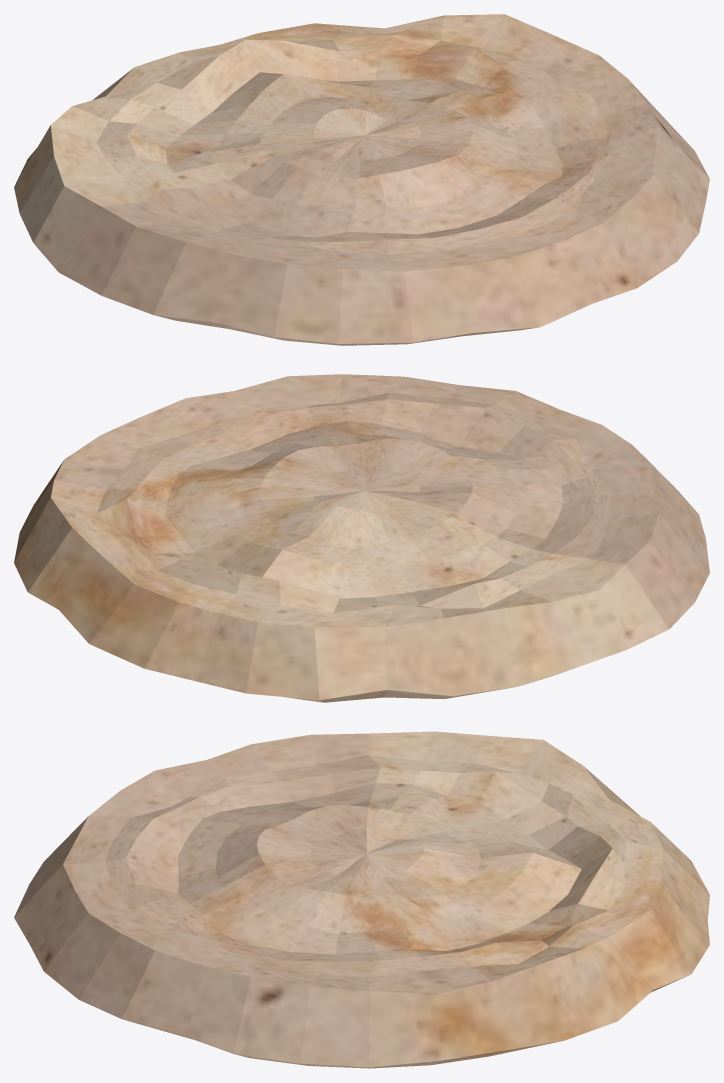
The model's file is deegbal_fase_2.glb.
The picture shows the model from 3 angles, top to bottom: view 1: azimuth 30°, elevation 25°; view 2: azimuth 150°, elevation 25°; view 3: azimuth 270°, elevation 25°; orthographic projection.
Visible parts, largest first — view 1: Sphere; view 2: Sphere; view 3: Sphere.
Part boxes in pixels (x1,y1,x2,y2): Sphere: (14,14,709,345); Sphere: (14,374,709,702); Sphere: (14,731,709,1068).
Size of the model in its own units: 2.65 by 0.3776 by 2.6.
Materials: 1 (1 with a texture image).
